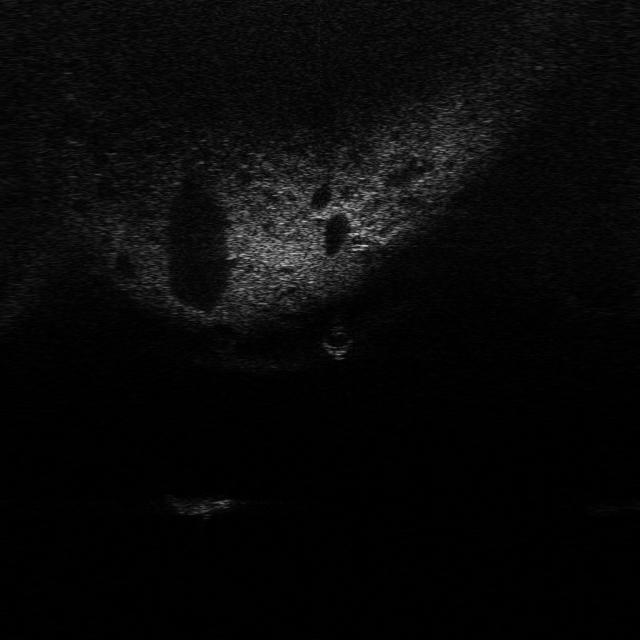ball: (314, 327, 357, 355)
cube: (167, 489, 242, 518)
